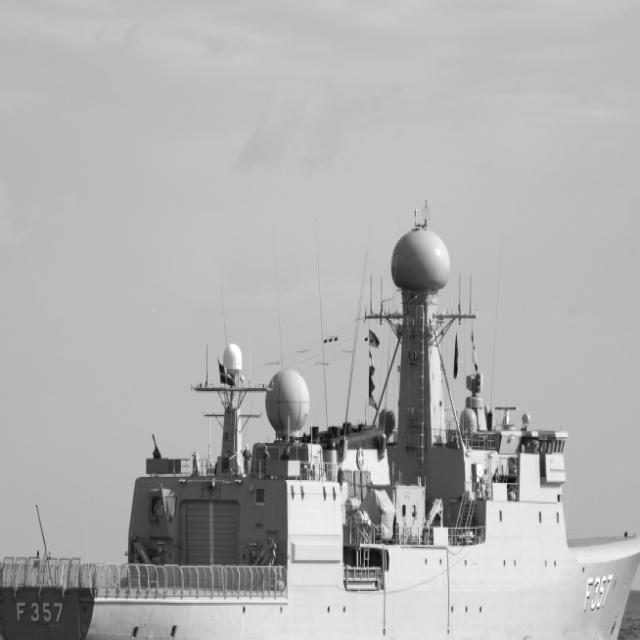Fragata: (1, 187, 640, 640)
